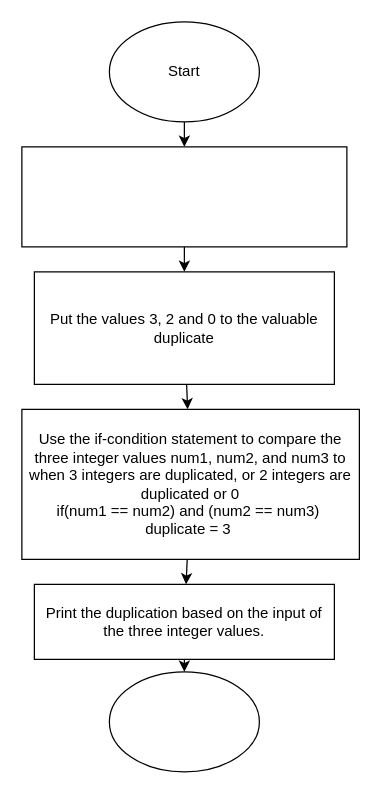
The diagram is 381 pixels wide and 794 high, and some of its shapes have lost their labels. The centre of each missing label's shape, as x and y in pixels:
"End" goes at (183,721).
"User input three integer values and store them num1, num2, and num3." goes at (184,196).
